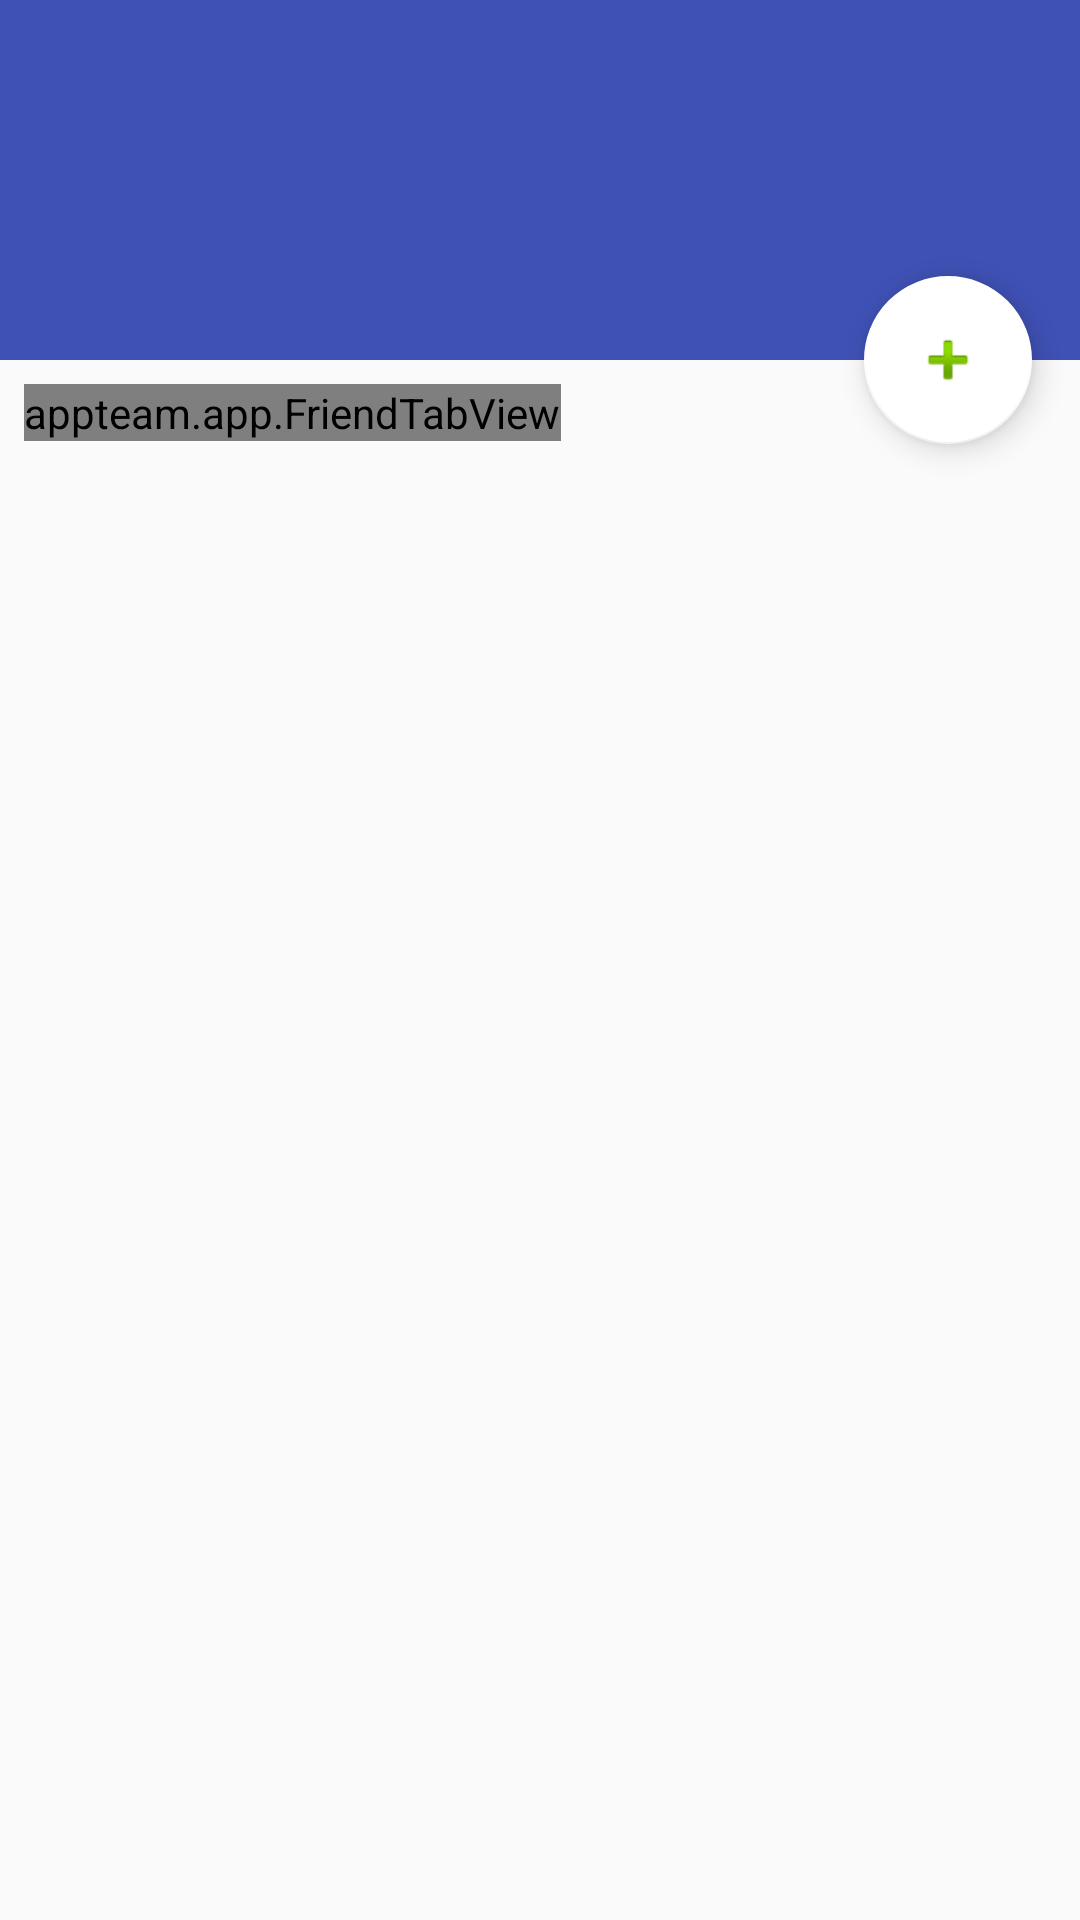

Icon click points for this 1080*1920 phone screenshot, format (x=x, y=y):
add: (x=948, y=360)
